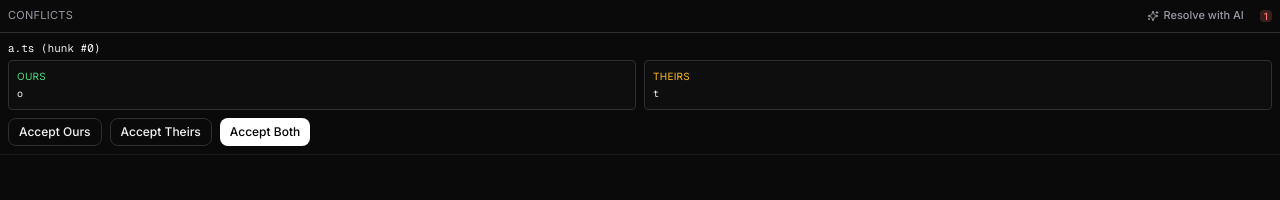
Test case: ConflictResolver › catches error from resolveWithAI when sendAgentPrompt throws (lines 35-36)
This screenshot has width=1280, height=200.
What coordinates should you click on to do the following:
click the button with test id "conflict-resolve-ai"
I would click on:
 (1196, 16)
Its box is [1140,4,1252,28].
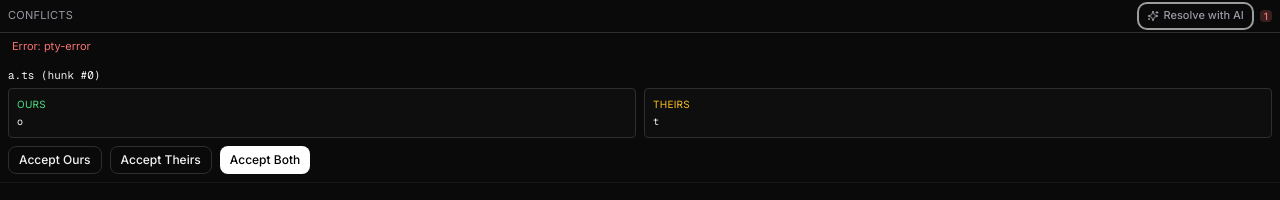
Check: the text "Error: pty-error" is shown, box [12,39,91,53]
